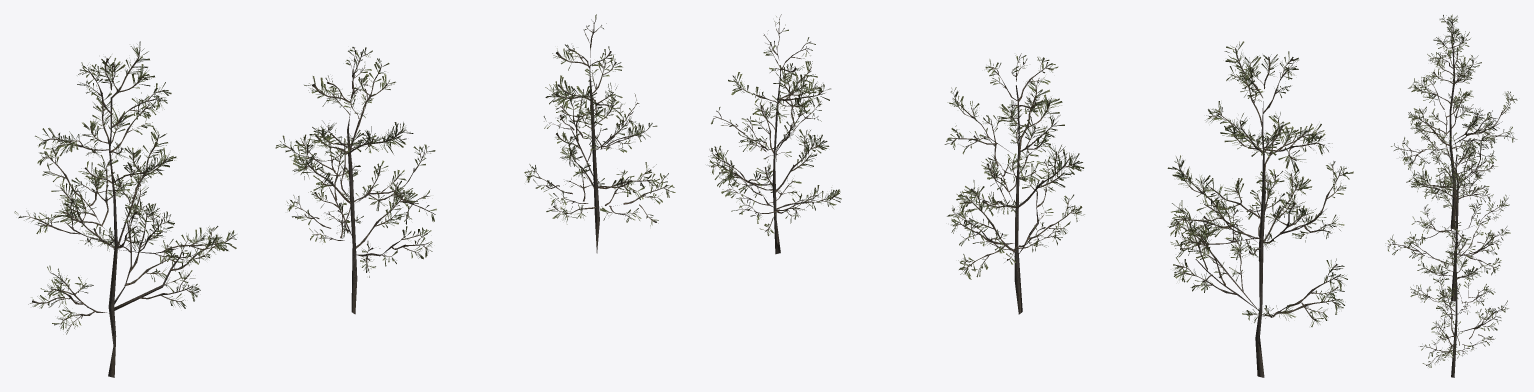
File: pine_sapling_small_lod.glb
3 views of the same model, side by side, from view 1: azimuth 30°, elevation 25°; view 2: azimuth 150°, elevation 25°; view 3: azimuth 270°, elevation 25° (orthographic). The views are drawn at different scales.
Size of the model in its own units: 2.63 by 1.3 by 0.7677.
2 materials, 2 textured.
